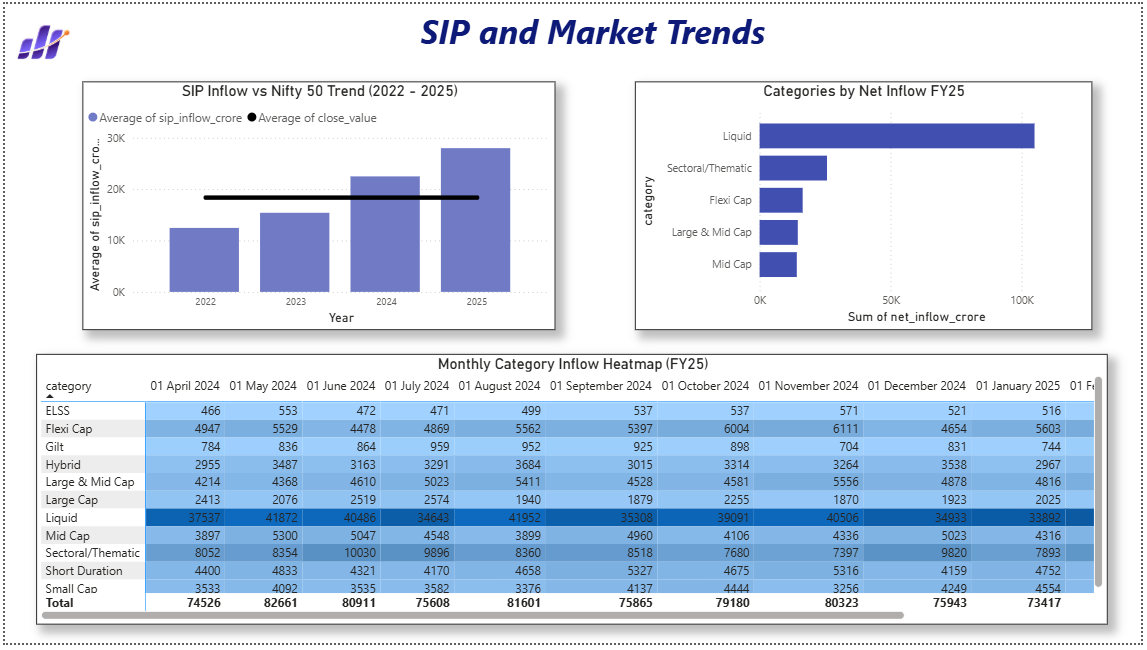

The dashboard page shown, as its layout file describes it:
{"tool":"powerbi","page":{"name":"Page 4 - SIP & Market Trends","canvas":[1280,720],"ordinal":3},"visuals":[{"type":"lineClusteredColumnComboChart","title":"SIP Inflow vs Nifty 50 Trend (2022 - 2025)","fields":{"Y":["Avg(04_monthly_sip_inflows.sip_inflow_crore)"],"Y2":["Avg(10_benchmark_indices_cleaned.close_value)"],"Category":["04_monthly_sip_inflows.month.Variation.Date Hierarchy.Year"]},"box":[91.9,2.7,610.8,324.3],"z":0},{"type":"pivotTable","title":"Monthly Category Inflow Heatmap (FY25)","fields":{"Rows":["05_category_inflows_cleaned.category"],"Values":["Sum(05_category_inflows_cleaned.net_inflow_crore)"],"Columns":["05_category_inflows_cleaned.month"]},"box":[36,360,1206,340],"z":1000},{"type":"clusteredBarChart","title":"Categories by Net Inflow FY25","fields":{"Category":["05_category_inflows_cleaned.category"],"Y":["Sum(05_category_inflows_cleaned.net_inflow_crore)"]},"box":[737.8,2.7,518.9,321.6],"z":2000},{"type":"image","box":[0,0,86.5,86.5],"z":2001}]}

Visuals, with their boxes in screenshot pixels (x1, y1, x2, y2), scaled from the page's 1280x720 canvas onto the 1147x650 screenshot:
"SIP Inflow vs Nifty 50 Trend (2022 - 2025)" lineClusteredColumnComboChart: {"left": 82, "top": 2, "right": 630, "bottom": 295}
"Monthly Category Inflow Heatmap (FY25)" pivotTable: {"left": 32, "top": 325, "right": 1113, "bottom": 632}
"Categories by Net Inflow FY25" clusteredBarChart: {"left": 661, "top": 2, "right": 1126, "bottom": 293}
image: {"left": 0, "top": 0, "right": 78, "bottom": 78}
